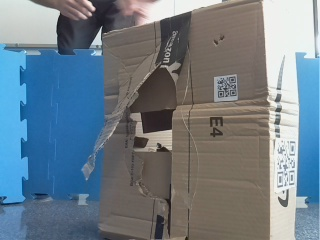caja_rota: (100, 1, 297, 240)
